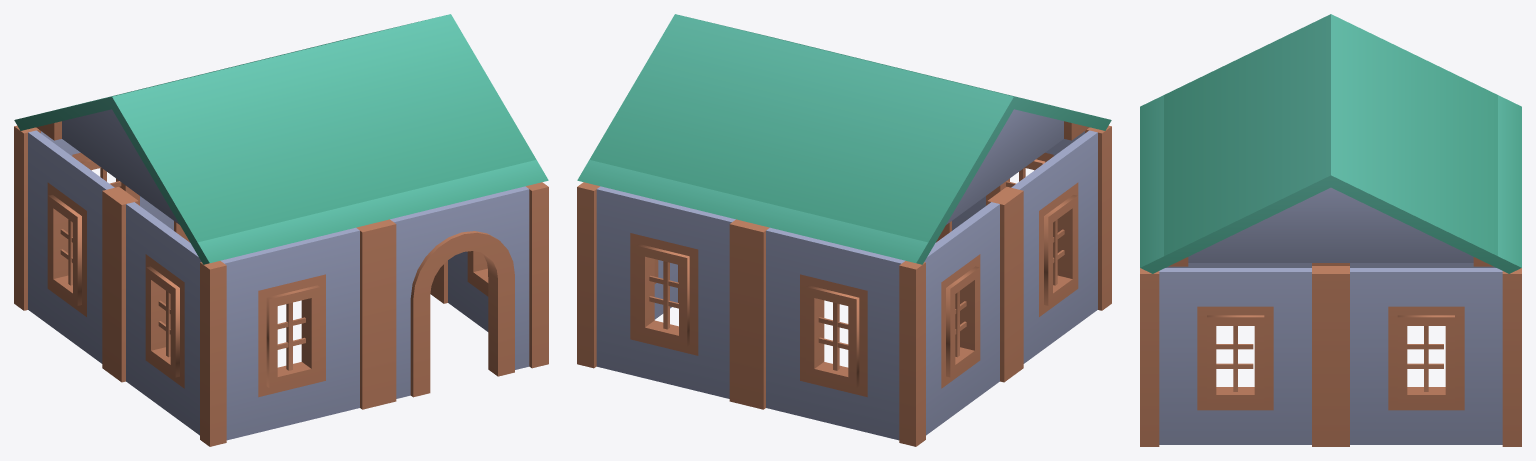
The model's file is near-1.glb.
3 views of the same model, side by side, from view 1: azimuth 30°, elevation 25°; view 2: azimuth 150°, elevation 25°; view 3: azimuth 270°, elevation 25° (orthographic). The views are drawn at different scales.
Visible parts, largest first — view 1: wall-window-glass; view 2: wall-window-glass; view 3: wall-window-glass.
Boxes of the visible parts, x1,y1,x2,y2 form: wall-window-glass: (14, 14, 548, 446); wall-window-glass: (577, 14, 1111, 446); wall-window-glass: (1140, 14, 1521, 446).
Size of the model in its own units: 2 by 1.57 by 2.
1 material, 1 textured.
